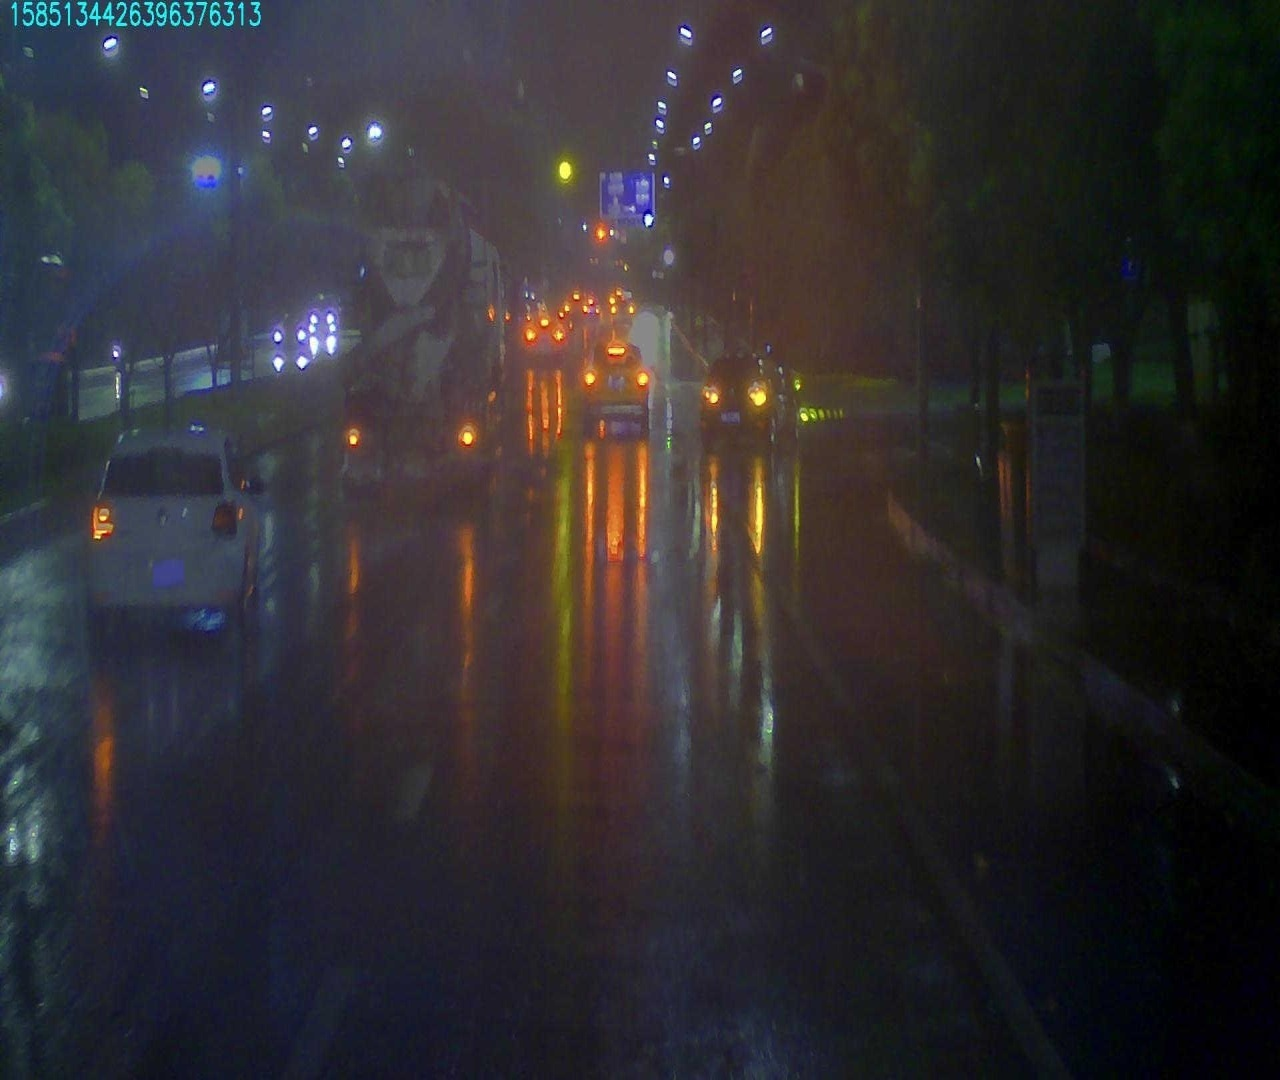yellow: (546, 142, 575, 179)
